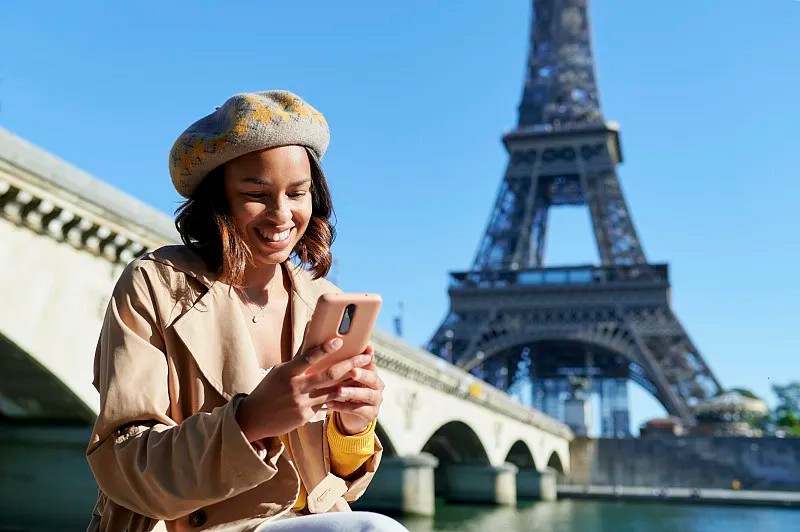Eiffel: (419, 1, 726, 434)
